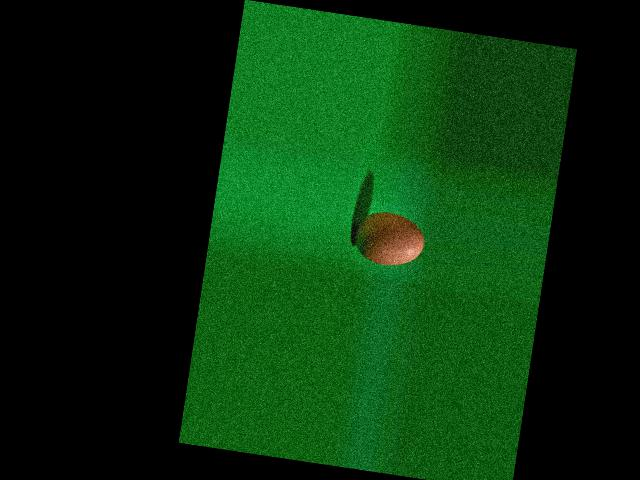egg: (350, 208, 427, 270)
